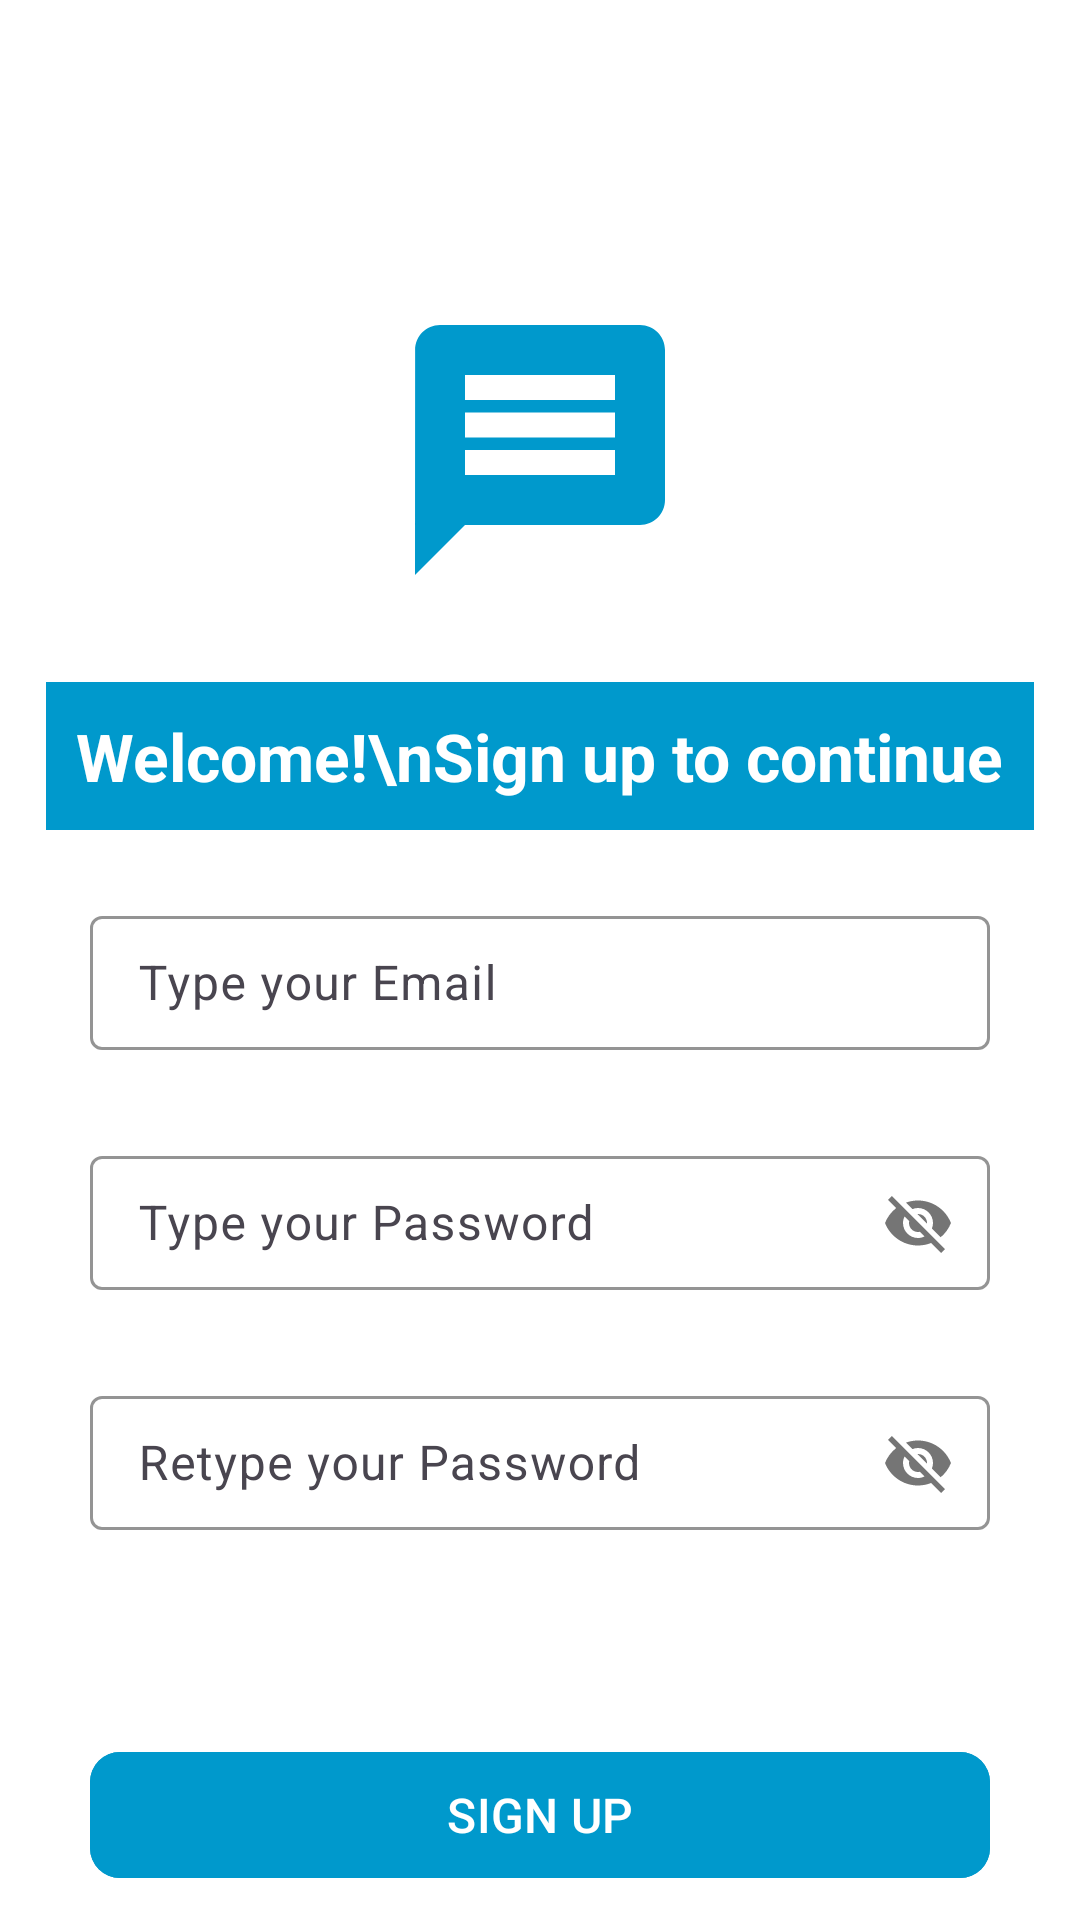

Where to tap for icons on this 1080w x 1920h app screen, as [x,y]:
message: [540,450]
